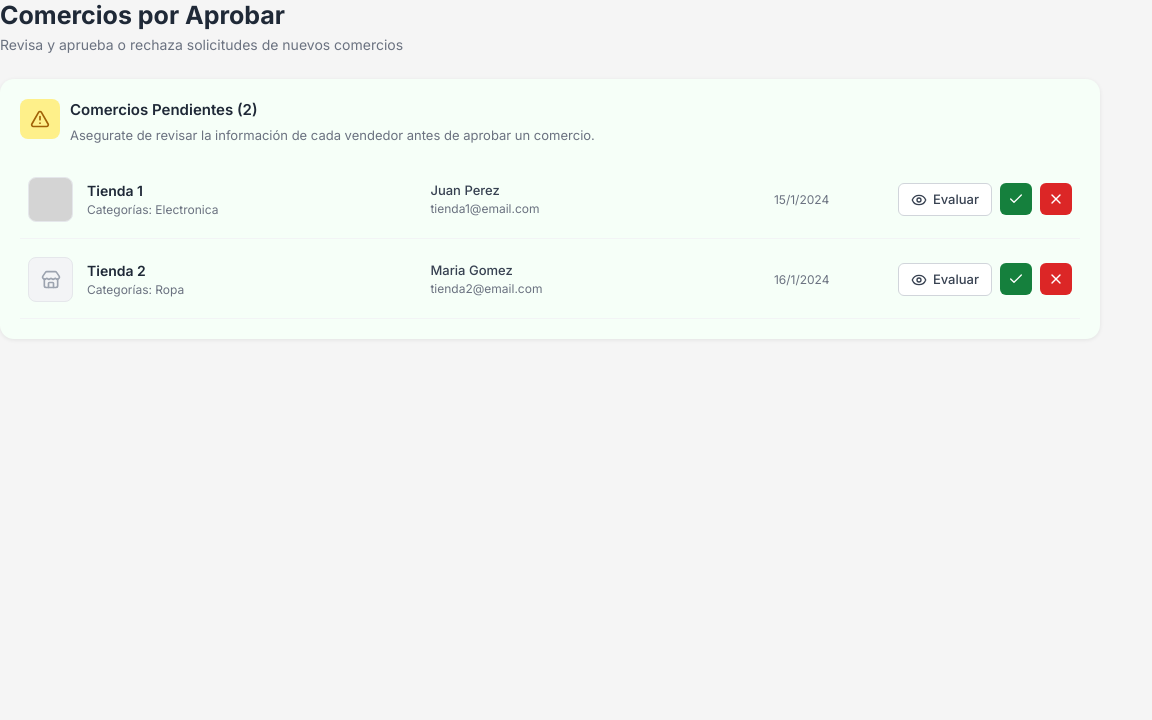
AdminPendingStoresPage › abre el modal de detalles al darle clic en evaluar
Expected: the text "Tienda 1" is shown, [87,182,143,199]
Click the button titled "Ver y Evaluar" next to "15/1/2024".
click(945, 200)  # box [898,183,992,216]
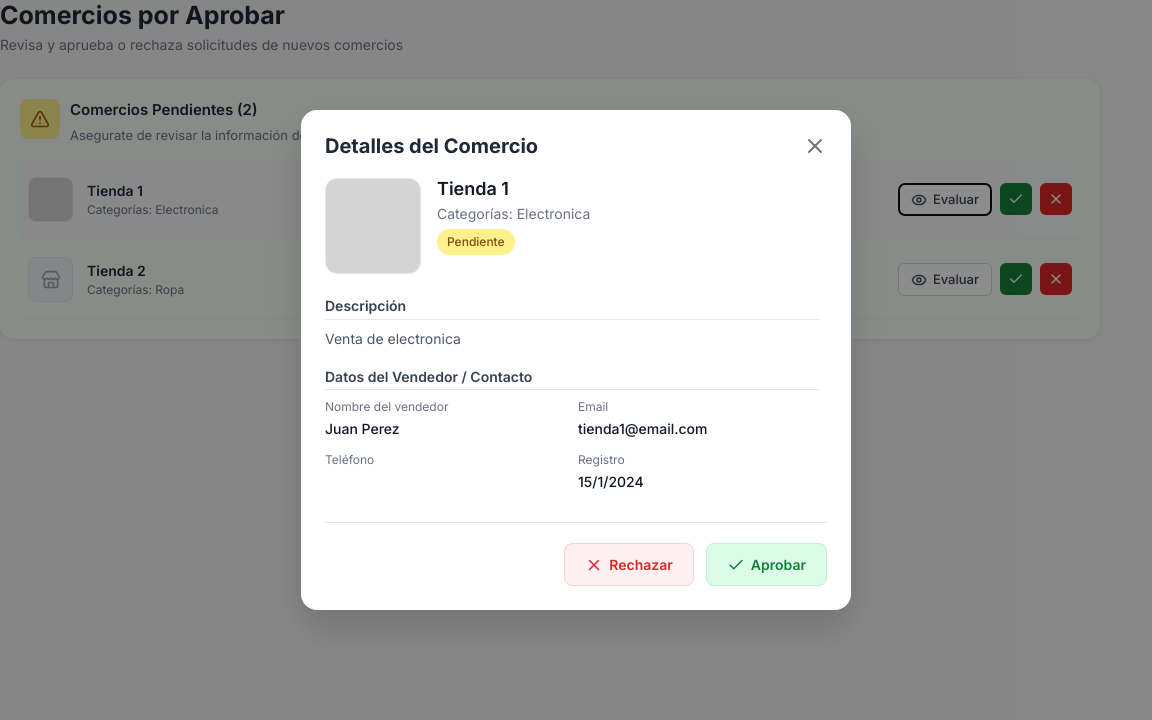
Expected: the heading "Detalles del Comercio" is shown, [325,134,538,158]
Expected: the text "Venta de electronica" is shown, [325,330,461,346]
